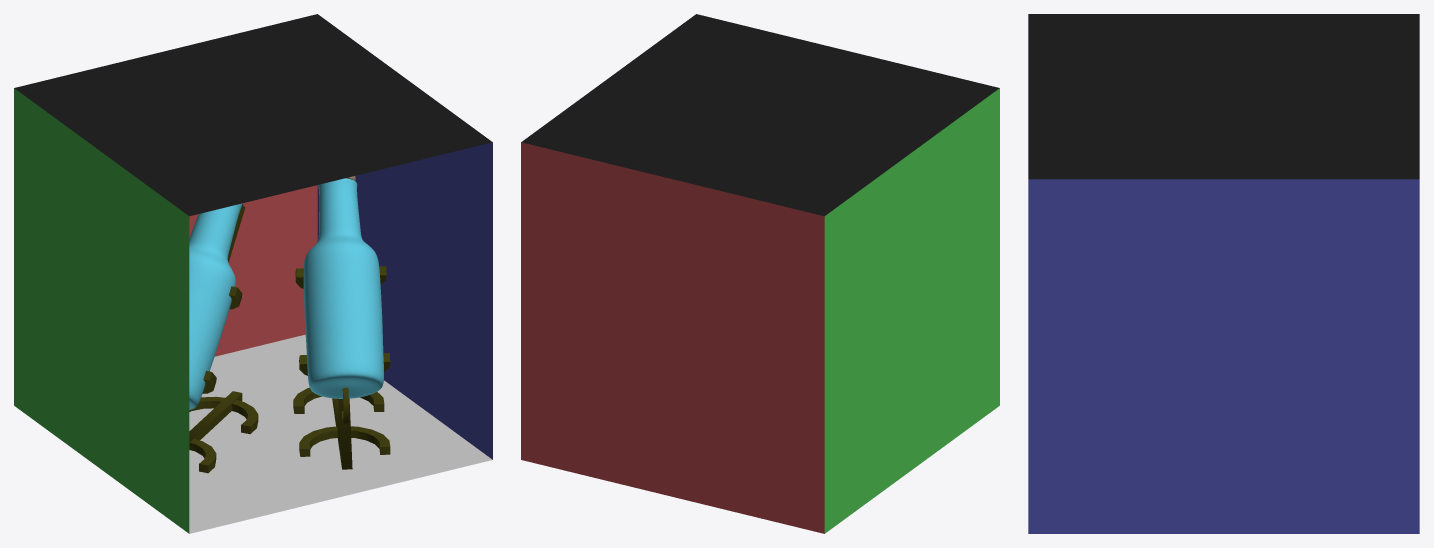
File: CornellBottle2.obj
3 renders of one model, left to right at view 1: azimuth 30°, elevation 25°; view 2: azimuth 150°, elevation 25°; view 3: azimuth 270°, elevation 25°, orthographic. The views are drawn at different scales.
Parts seen in each view (by area): view 1: Box001, Box003, Box004, Box002, Line006, Box005, Line001, Line007, Line004; view 2: Box005, Box001, Box003; view 3: Box004, Box003.
Part boxes in pixels (x1=…): Box001: x1=14, y1=88, x2=189, y2=533; Box003: x1=14, y1=14, x2=492, y2=216; Box004: x1=317, y1=142, x2=492, y2=459; Box002: x1=189, y1=334, x2=492, y2=533; Line006: x1=303, y1=178, x2=383, y2=398; Box005: x1=189, y1=185, x2=317, y2=356; Line001: x1=189, y1=203, x2=241, y2=409; Line007: x1=293, y1=266, x2=390, y2=469; Line004: x1=189, y1=204, x2=258, y2=473; Box005: x1=521, y1=142, x2=824, y2=533; Box001: x1=824, y1=88, x2=999, y2=533; Box003: x1=521, y1=14, x2=999, y2=216; Box004: x1=1028, y1=179, x2=1419, y2=533; Box003: x1=1028, y1=14, x2=1419, y2=179.
Bounding box in the file's own units: 2 × 2.01 × 2.
